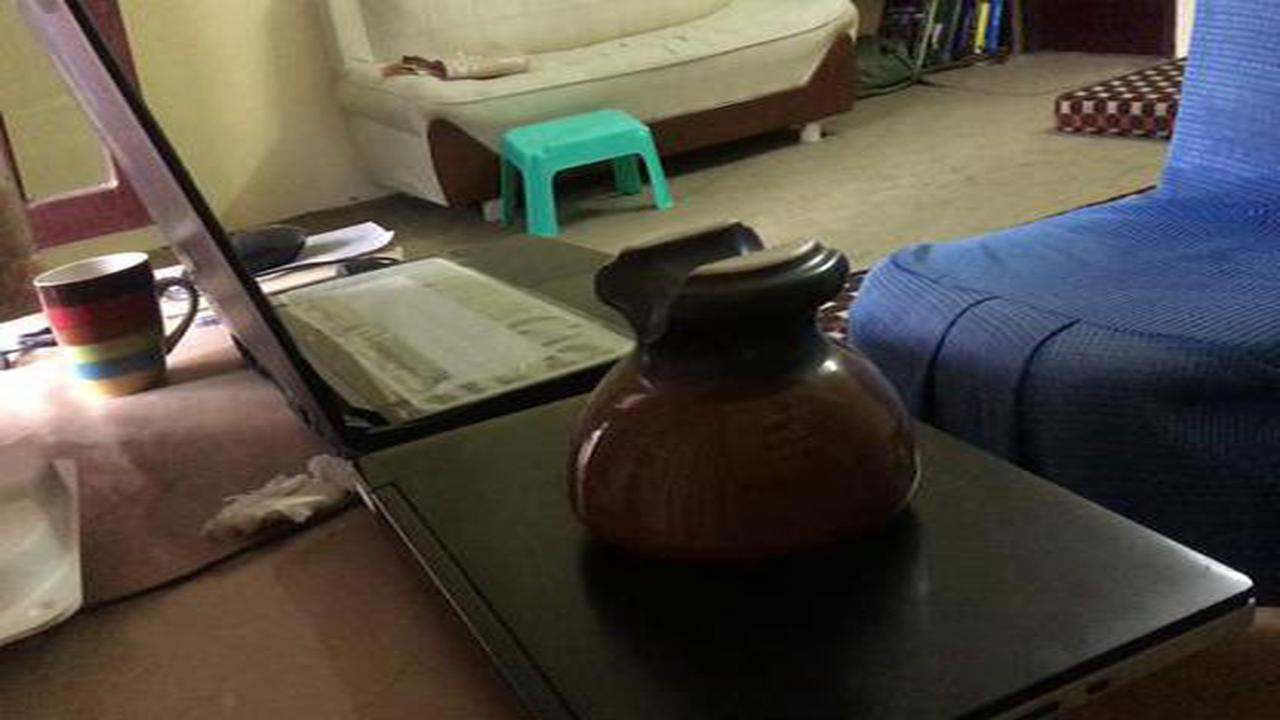insulator_pin: (536, 201, 948, 591)
